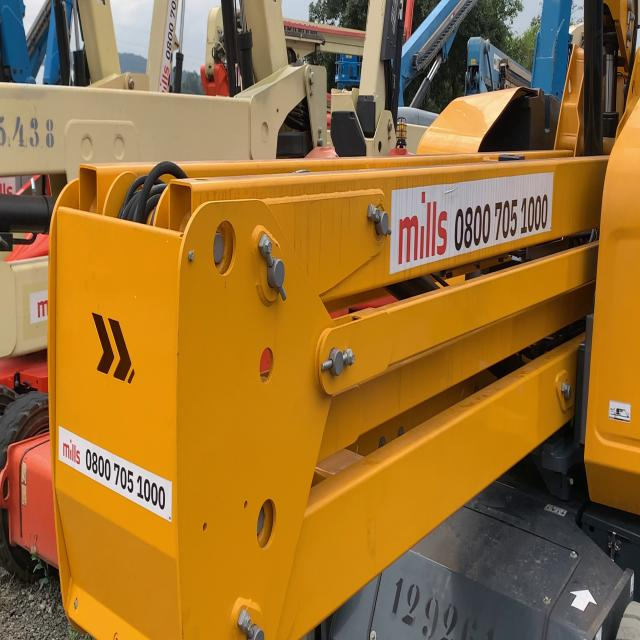Adesivo Longo: (389, 169, 555, 276), (58, 424, 173, 525)
